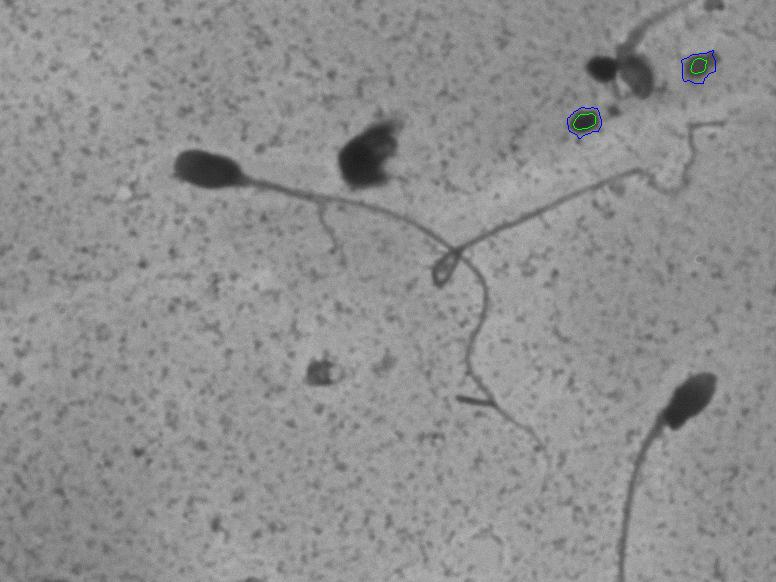Abnormal: (161, 134, 563, 506), (590, 354, 732, 570)
